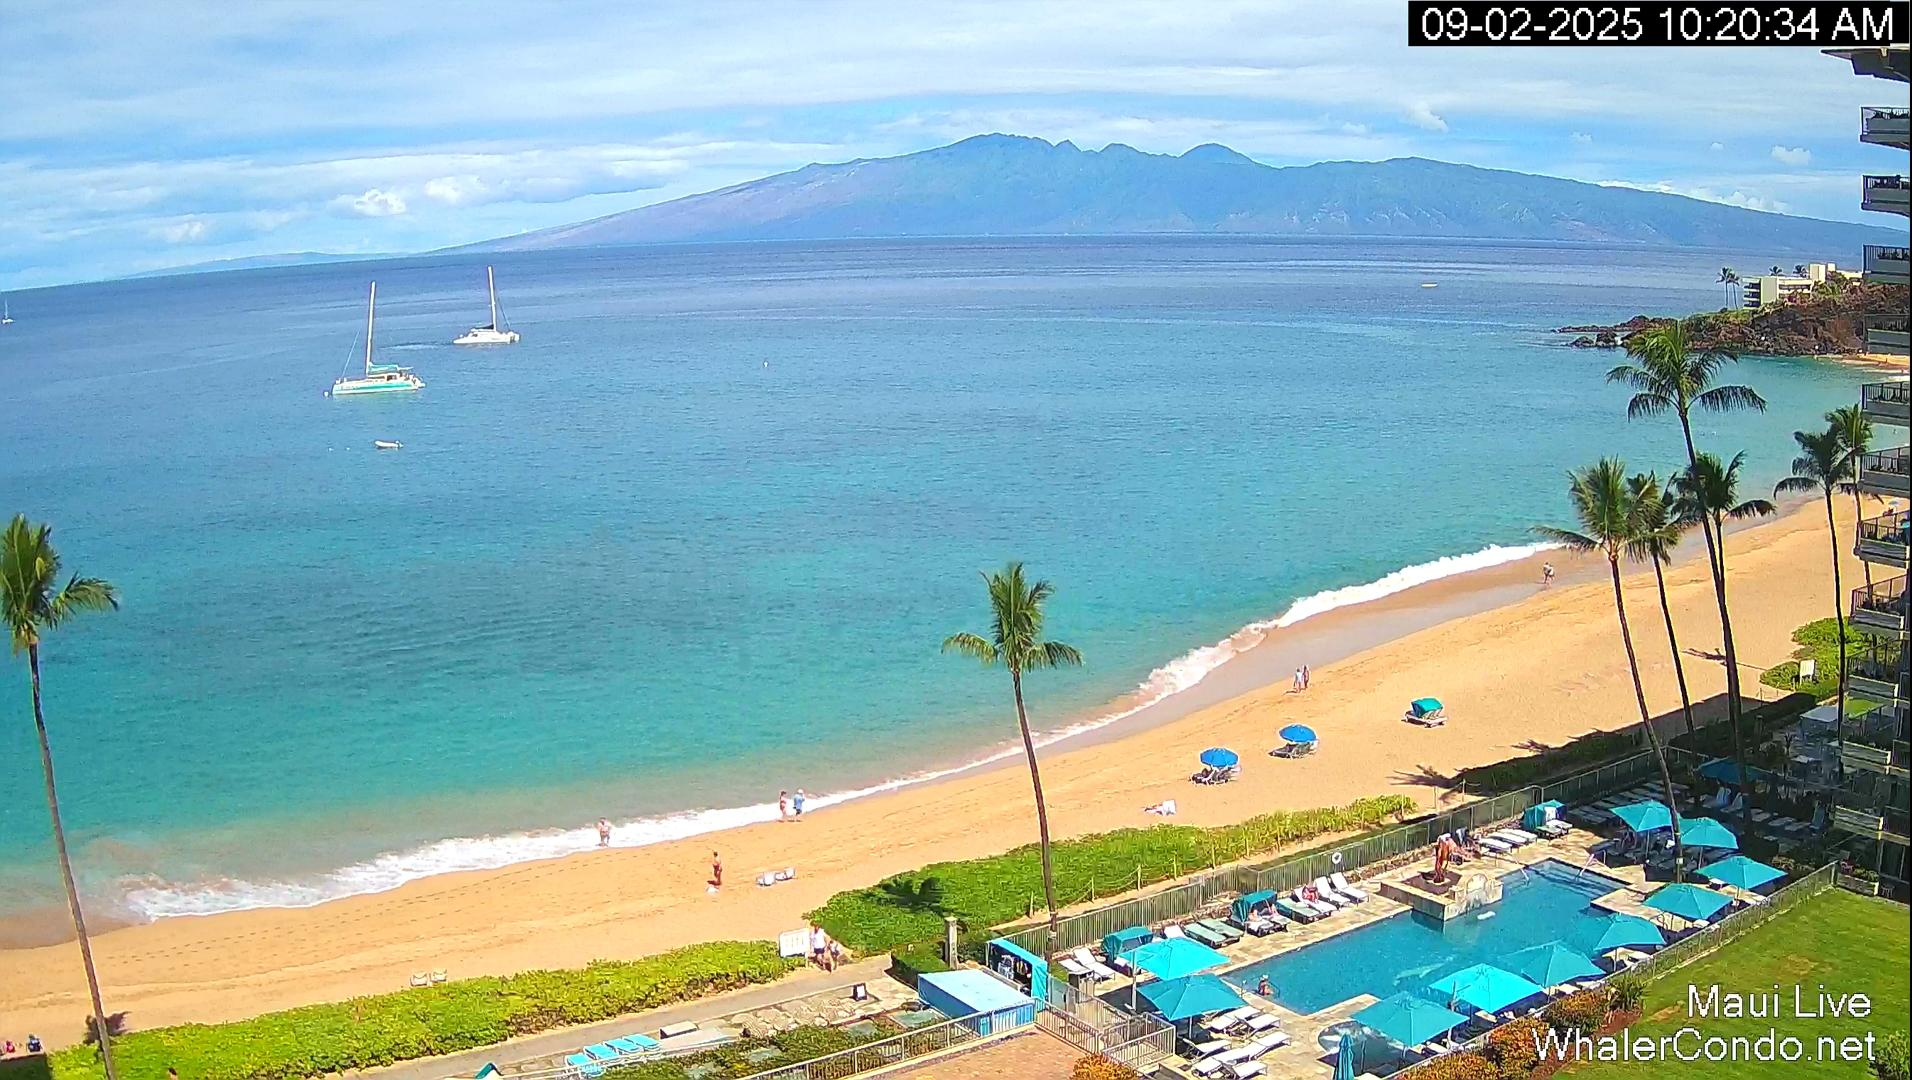boat: (328, 281, 426, 397), (453, 265, 521, 345), (374, 438, 404, 453), (2, 298, 16, 324), (1421, 283, 1437, 288)
person: (810, 924, 830, 970), (1463, 827, 1490, 850), (1446, 836, 1471, 859), (1255, 974, 1275, 997), (792, 788, 805, 822), (711, 850, 723, 886), (597, 817, 610, 847), (828, 940, 841, 970), (778, 790, 788, 822), (1302, 883, 1318, 903), (26, 1034, 43, 1052), (1542, 560, 1554, 584), (1262, 900, 1277, 918), (1294, 666, 1303, 692), (705, 880, 721, 894), (1302, 665, 1310, 690), (166, 1068, 178, 1080)
